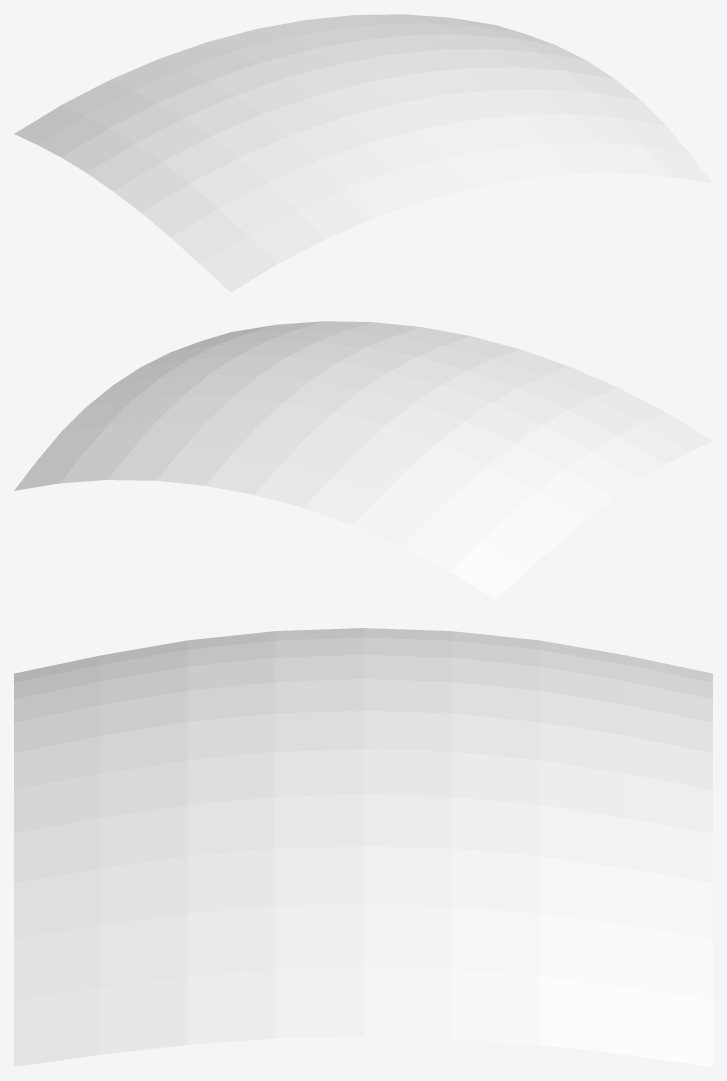
Rendered from road_tone_cover.fbx.
The picture shows the model from 3 angles, top to bottom: view 1: azimuth 30°, elevation 25°; view 2: azimuth 150°, elevation 25°; view 3: azimuth 270°, elevation 25°; orthographic projection. The views are drawn at different scales.
Parts seen in each view (by area): view 1: road_test04:headusOBJexport; view 2: road_test04:headusOBJexport; view 3: road_test04:headusOBJexport.
Boxes of the visible parts, <box> form: road_test04:headusOBJexport: <box>14,14,712,292</box>; road_test04:headusOBJexport: <box>14,321,712,599</box>; road_test04:headusOBJexport: <box>14,628,712,1066</box>.
Size of the model in its own units: 141 by 21.66 by 106.
